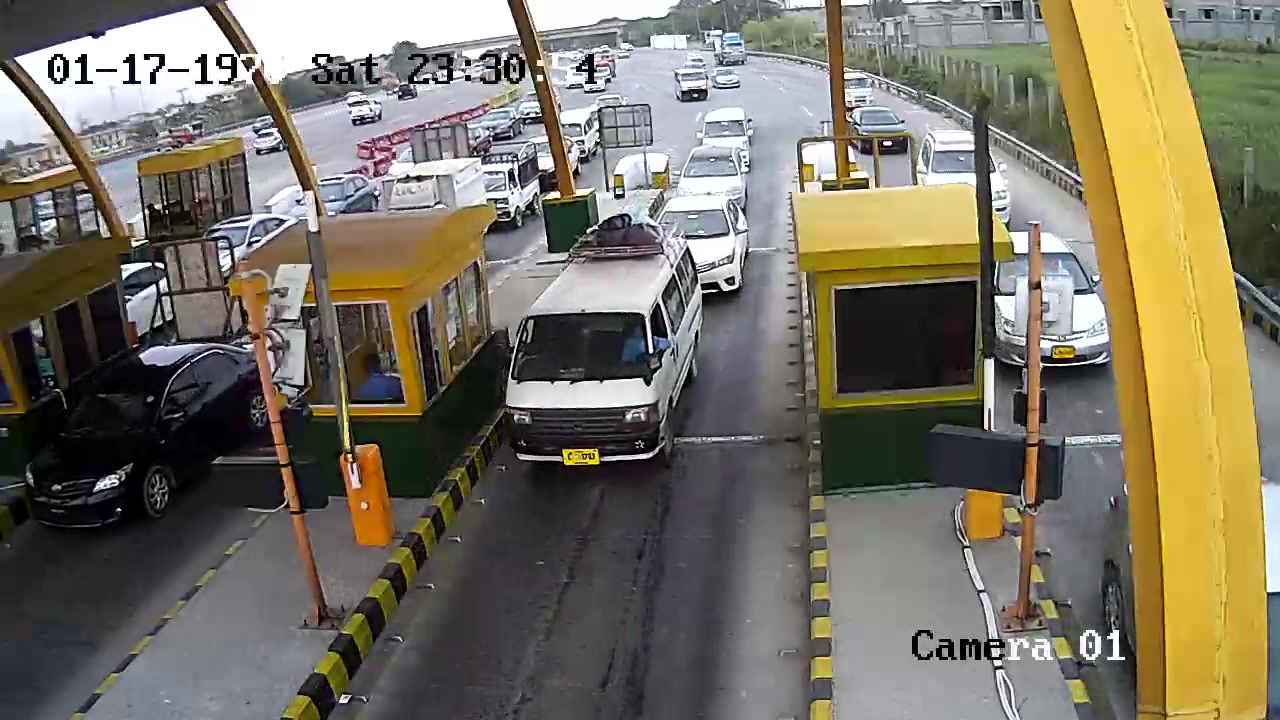F2: (496, 206, 715, 484)
